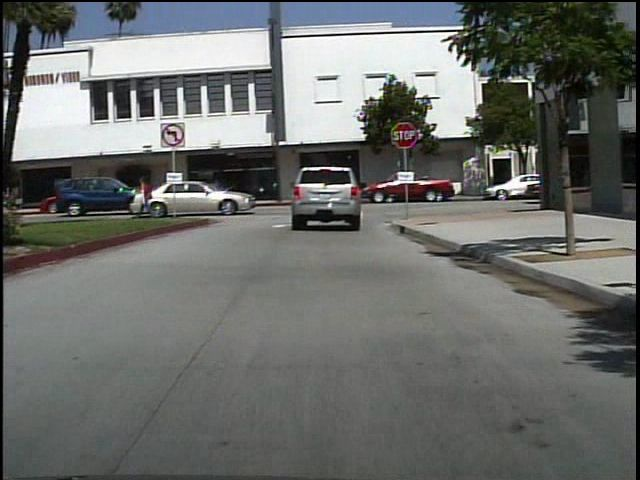person: (330, 168, 357, 228), (133, 173, 164, 221), (208, 174, 225, 205)
